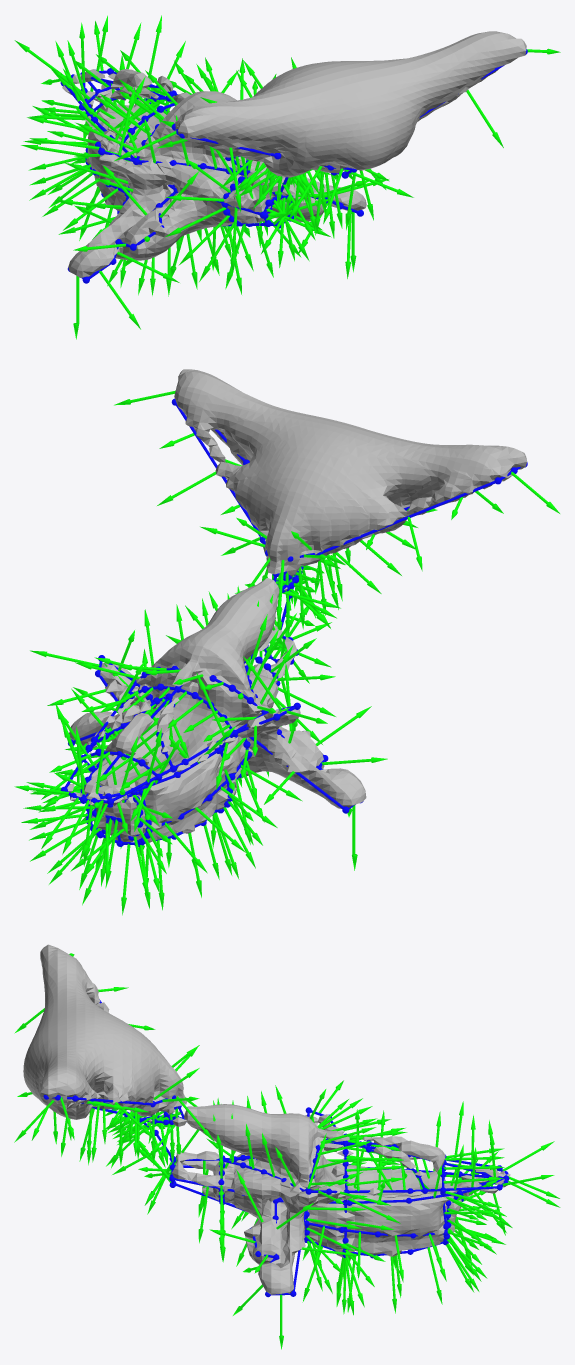
Rendered from ils_spacecraft_29.gltf.
3 views of the same model, one above another, from view 1: azimuth 30°, elevation 25°; view 2: azimuth 150°, elevation 25°; view 3: azimuth 270°, elevation 25° (orthographic). The views are drawn at different scales.
Bounding box in the file's own units: 0.7095 × 0.5197 × 0.8822.
